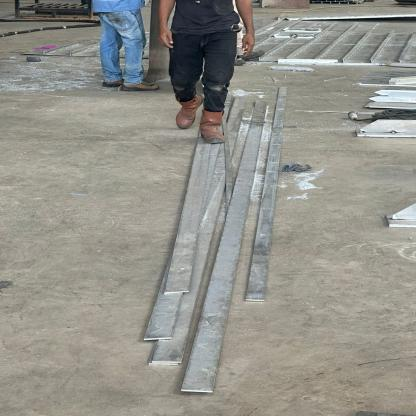bota: (168, 93, 203, 128), (199, 108, 230, 147), (122, 78, 164, 93), (106, 78, 123, 88)
